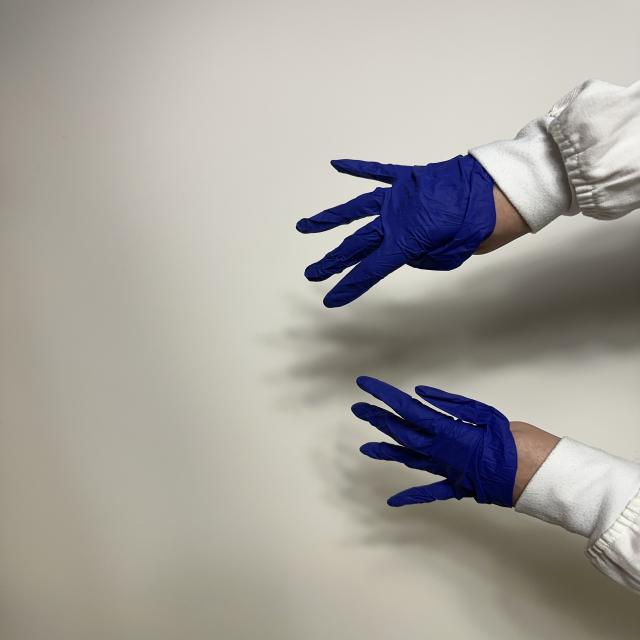glove_partial: (296, 156, 530, 308), (352, 376, 560, 507)
